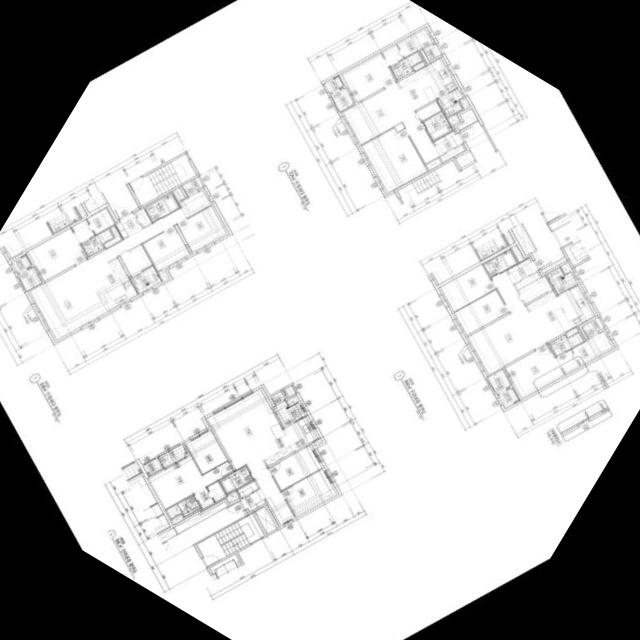background: (0, 0, 640, 640)
space_balconi: (130, 266, 161, 294), (273, 401, 305, 428), (546, 268, 577, 295), (437, 89, 462, 118), (158, 445, 187, 468), (17, 267, 41, 291), (487, 370, 510, 395), (330, 87, 353, 112)
space_bedroom: (148, 456, 233, 510), (361, 128, 427, 193), (27, 228, 86, 282), (504, 345, 563, 398), (341, 54, 395, 103), (281, 469, 336, 517), (440, 264, 495, 312), (454, 290, 508, 336), (268, 446, 321, 491), (176, 206, 226, 253), (142, 227, 189, 272)
space_dressroom: (556, 332, 612, 374), (381, 29, 432, 66), (71, 209, 114, 244), (194, 482, 226, 510)
space_front: (433, 131, 464, 162), (506, 258, 538, 284), (114, 213, 142, 239), (240, 489, 266, 513)
space_kitchen: (526, 285, 594, 343), (255, 417, 317, 466), (398, 59, 456, 111), (86, 257, 137, 312)
space_living_room: (29, 191, 210, 340), (207, 390, 294, 525), (467, 271, 546, 375), (343, 83, 439, 164)
space_multipurpose_space: (185, 431, 227, 474)
space_other: (173, 502, 227, 535), (119, 245, 152, 277), (518, 276, 552, 304), (255, 507, 276, 534), (416, 101, 441, 122), (581, 318, 604, 339), (270, 386, 295, 405), (456, 109, 477, 131), (514, 273, 540, 290), (181, 177, 203, 197), (541, 257, 566, 274), (103, 226, 121, 249), (237, 481, 258, 498), (422, 44, 441, 61), (455, 151, 474, 168), (135, 209, 151, 228), (510, 246, 523, 263), (425, 158, 441, 170), (174, 188, 185, 201), (227, 491, 239, 502), (412, 62, 425, 72), (447, 115, 458, 126), (566, 328, 578, 338), (170, 515, 183, 524), (286, 397, 297, 407), (560, 264, 570, 275), (158, 270, 167, 281), (459, 99, 468, 109), (313, 439, 321, 446)
space_outdoor_room: (497, 388, 519, 409), (10, 255, 30, 273), (142, 459, 162, 476), (324, 76, 343, 93)
space_staircase: (196, 514, 264, 567), (129, 154, 196, 206)
space_toilet: (218, 466, 253, 495), (145, 194, 179, 222), (483, 250, 517, 278), (81, 229, 113, 257), (390, 52, 422, 80), (422, 112, 452, 141), (165, 495, 200, 519), (548, 333, 583, 357)
